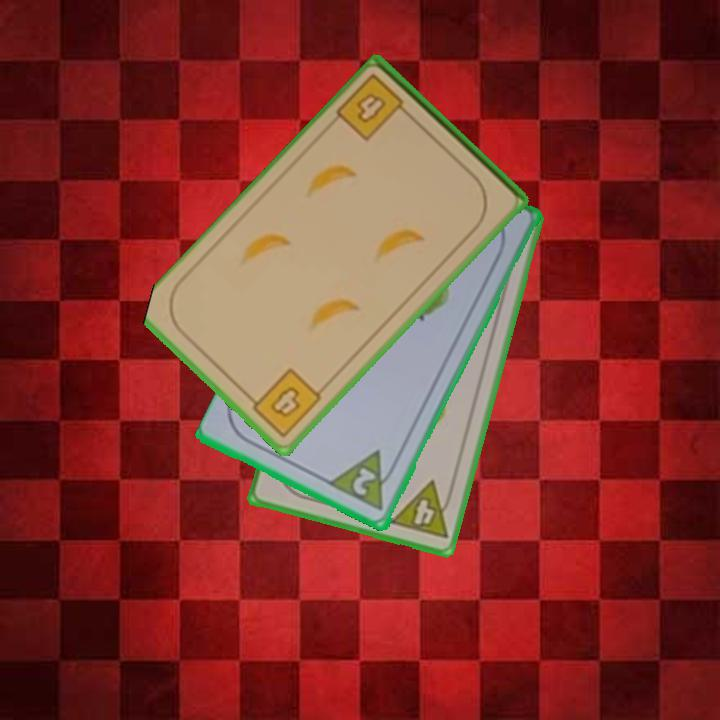2p: (349, 464, 379, 500)
4b: (243, 364, 325, 441), (333, 70, 415, 145)
4p: (386, 477, 458, 542)
